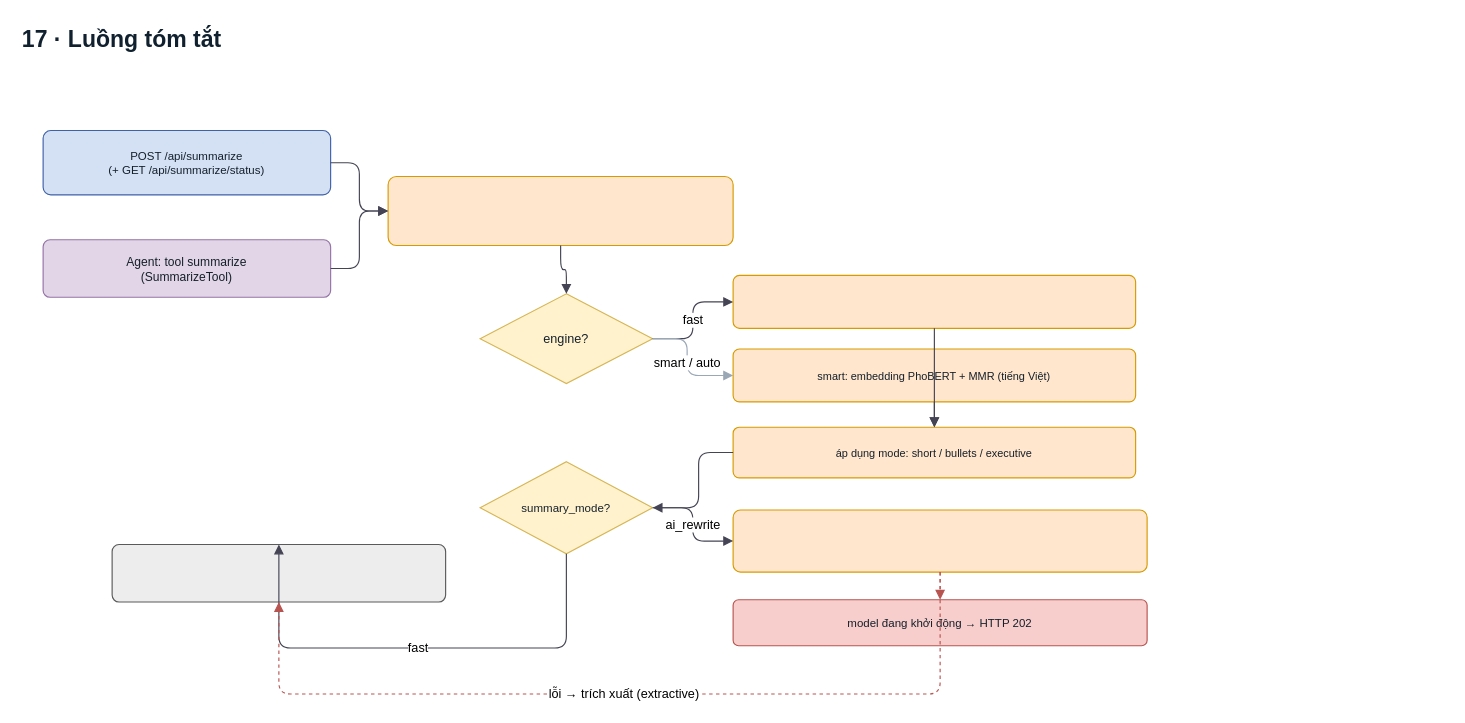
The diagram is 1465 pixels wide and 723 high, and some of its shapes have lost their labels. Here are the shapes that lost their labels. From the top down, the centre of each, then its label:
At point 560,210: "summary_service.summarize( text, mode, engine, summary_mode)".
At point 934,301: "fast: TF-IDF + TextRank (PageRank) + MMR".
At point 939,540: "ai_rewrite_service · Qwen cục bộ / API dự phòng (viết lại trừu tượng)".
At point 278,572: "kết quả {summary, mode, engine}".
